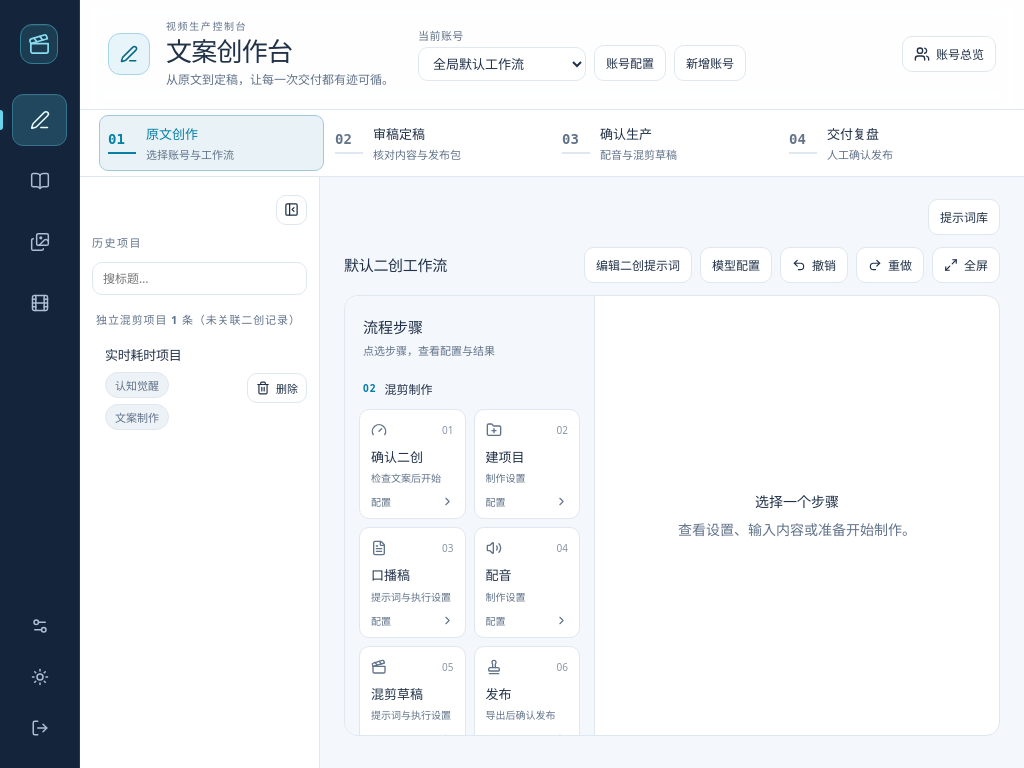
Scenario: a running task exposes a live phase duration instead of an empty persisted duration
This screenshot has width=1024, height=768.
Click the text "实时耗时项目" at (143, 355), box x1=105 y1=346 x2=182 y2=364
(page scrolled)
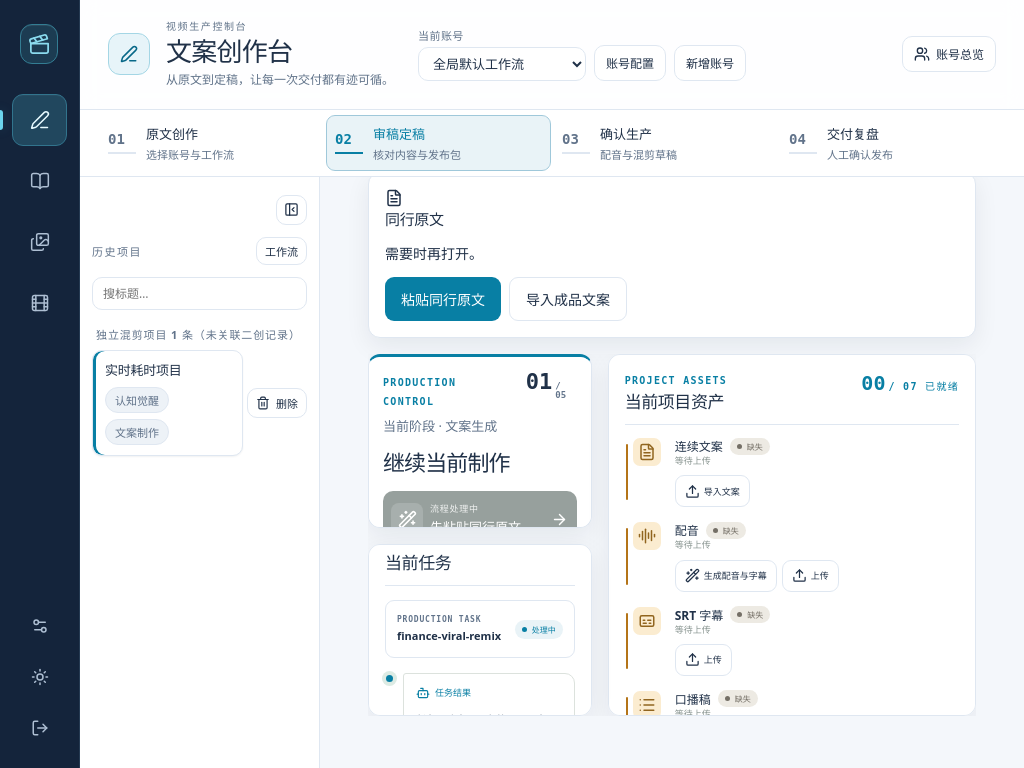
Click the button "PRODUCTION TASK finance-viral-remix 处理中" at (480, 629), box x1=385 y1=600 x2=575 y2=658
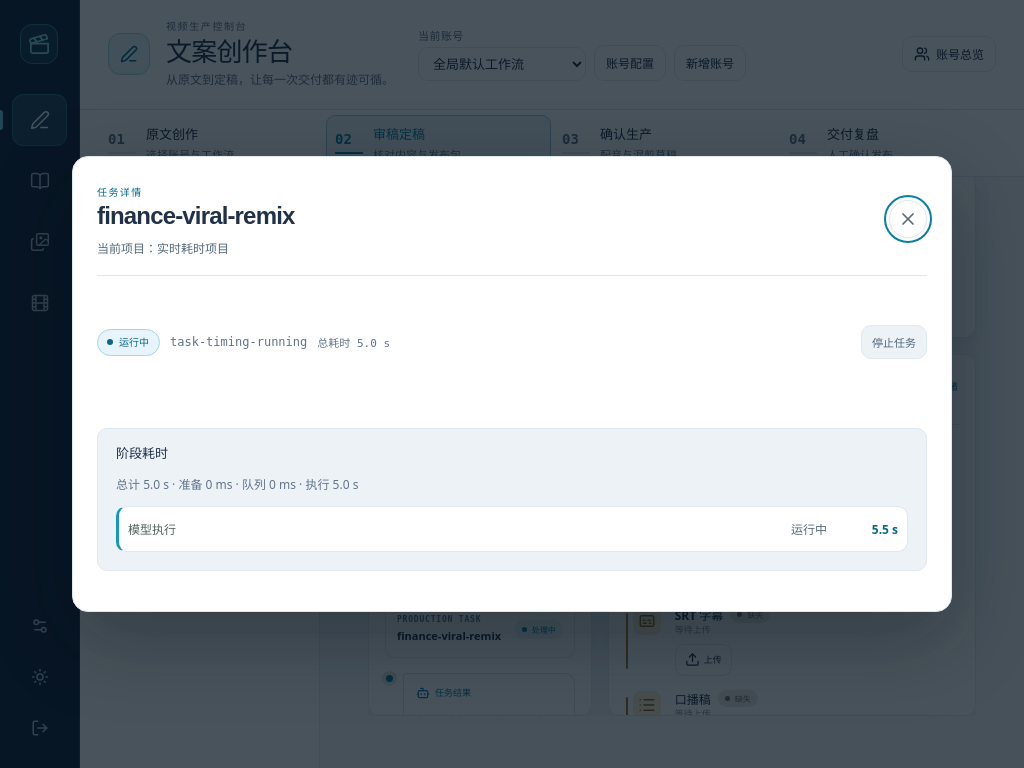
Expected: the text "模型执行" is shown, x1=128 y1=521 x2=176 y2=538
Expected: the text "运行中" in the row of "模型执行" is shown, x1=791 y1=521 x2=827 y2=538
Expected: the text named "运行时长" reads "5.5 s", x1=872 y1=521 x2=898 y2=538
